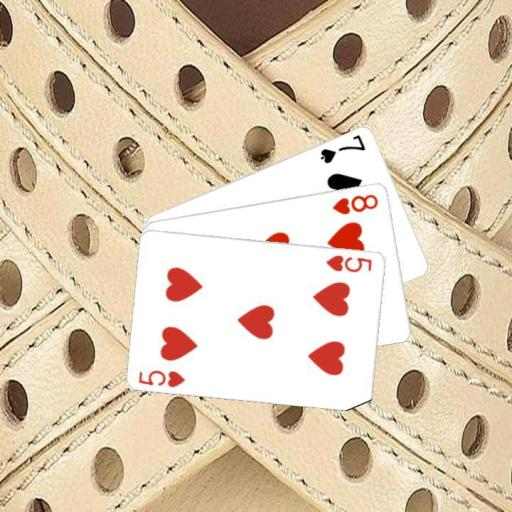5H: (323, 251, 374, 274), (136, 366, 187, 388)
7S: (317, 131, 367, 165)
8H: (329, 191, 380, 216)
